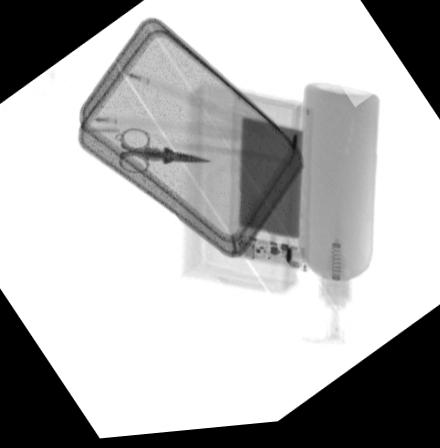Powerbank: (232, 96, 310, 277)
Scissors: (116, 127, 213, 176)
